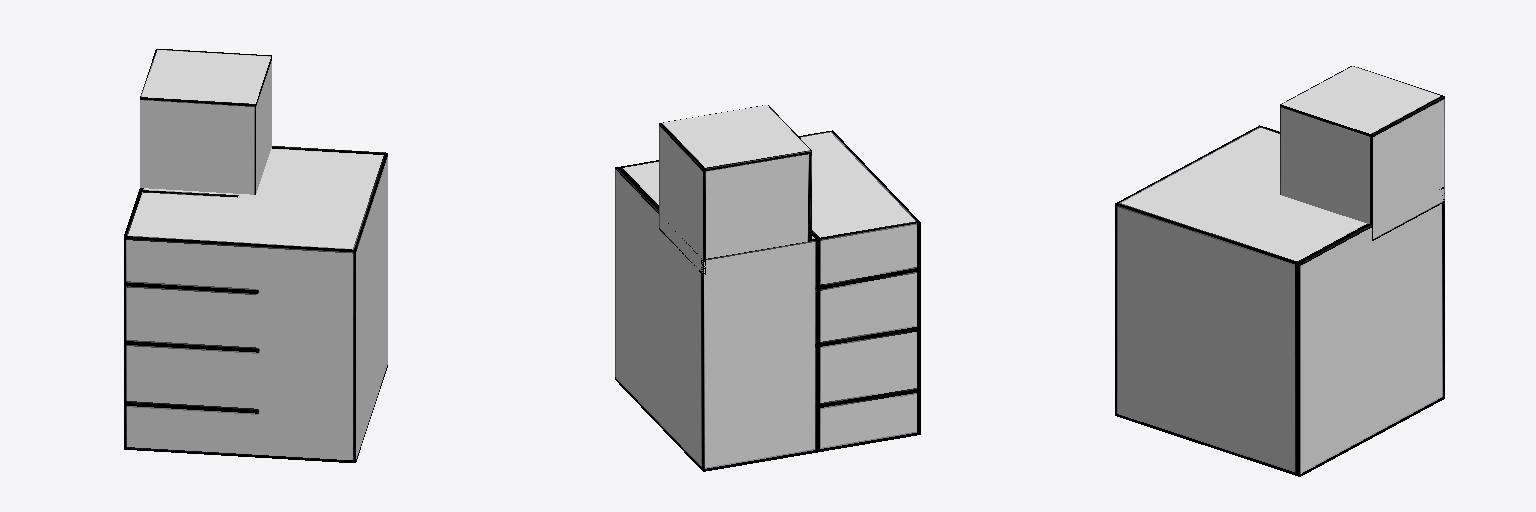
The picture shows the model from 3 angles: view 1: azimuth 30°, elevation 25°; view 2: azimuth 150°, elevation 25°; view 3: azimuth 270°, elevation 25°; orthographic projection.
Visible parts, largest first — view 1: 立方体.001; view 2: 立方体.001; view 3: 立方体.001.
Boxes of the visible parts, x1=… form: 立方体.001: x1=124, y1=49, x2=387, y2=462; 立方体.001: x1=615, y1=105, x2=920, y2=471; 立方体.001: x1=1115, y1=66, x2=1444, y2=476.
Bounding box in the file's own units: 0.5615 × 0.57 × 0.5615.
1 materials, 1 textured.